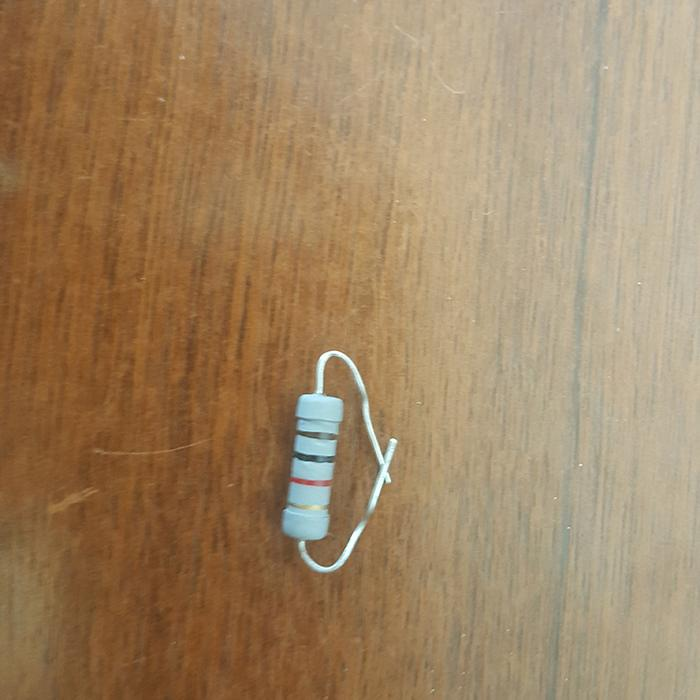resistor: (282, 391, 343, 542)
